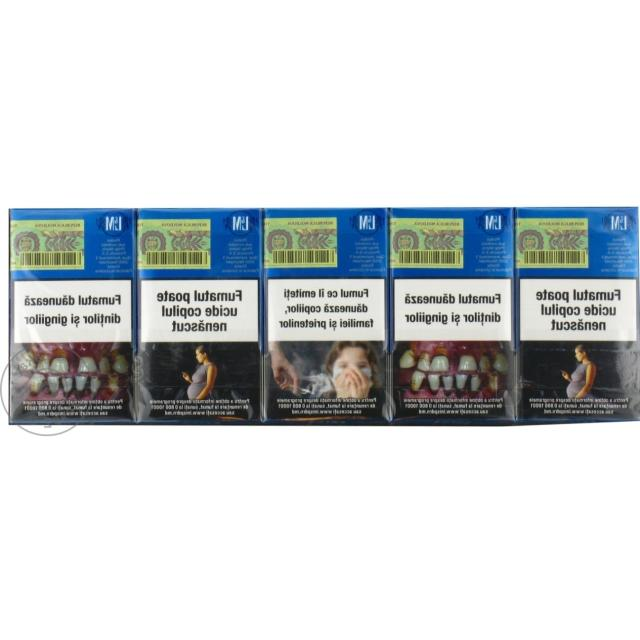lm: (260, 204, 393, 424), (390, 203, 515, 432), (136, 206, 264, 428), (10, 206, 136, 426), (514, 206, 638, 422)
